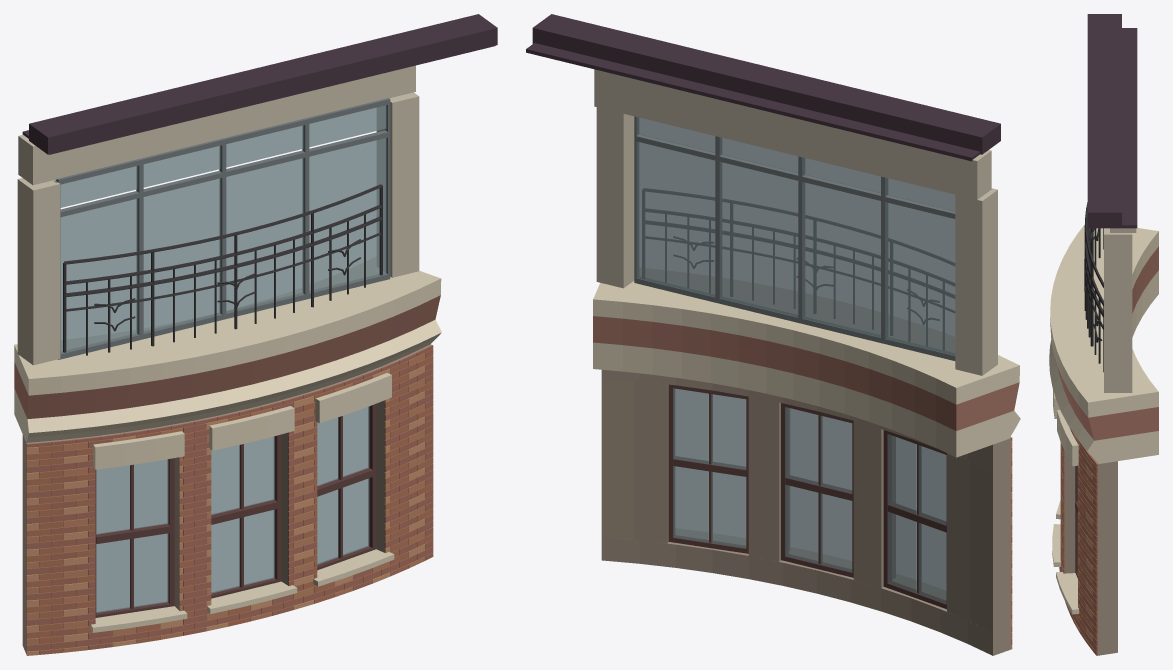
File: hongkou-gongyuan-fang-8-curved-bay-and-balcony-lod.glb
The picture shows the model from 3 angles, left to right: view 1: azimuth 30°, elevation 25°; view 2: azimuth 150°, elevation 25°; view 3: azimuth 270°, elevation 25°; orthographic projection. The views are drawn at different scales.
Visible parts, largest first — view 1: 公园坊8号弧窗与退台阳台; view 2: 公园坊8号弧窗与退台阳台; view 3: 公园坊8号弧窗与退台阳台.
Boxes of the visible parts, box(x1,y1,x2,y2) form: 公园坊8号弧窗与退台阳台: box(14, 14, 497, 655); 公园坊8号弧窗与退台阳台: box(526, 14, 1020, 655); 公园坊8号弧窗与退台阳台: box(1049, 14, 1158, 655).
Size of the model in its own units: 4.85 by 5.12 by 1.09.
